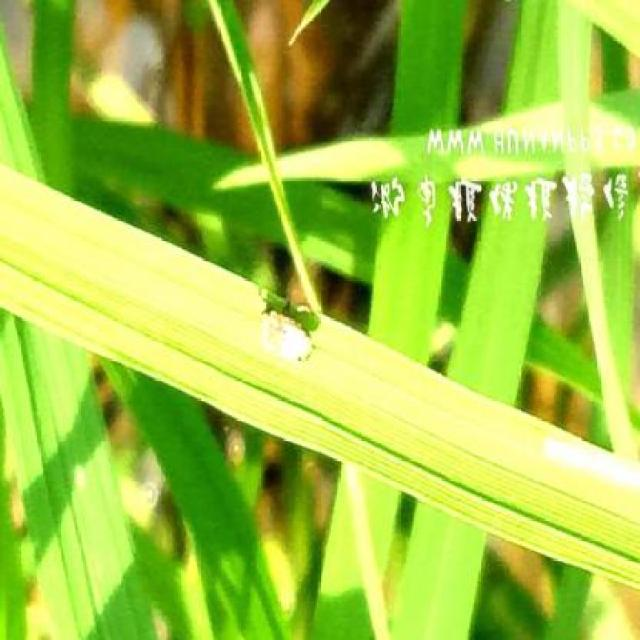rice-bug: (261, 303, 313, 366)
